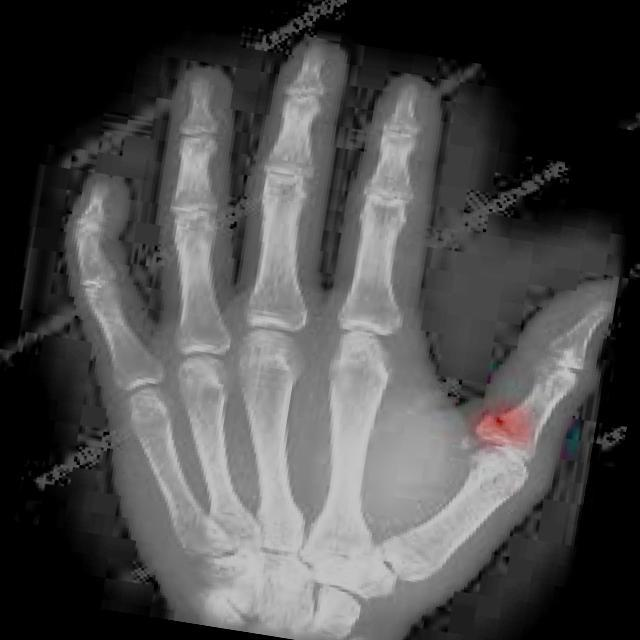Avlusion Fracture: (467, 405, 519, 470)
